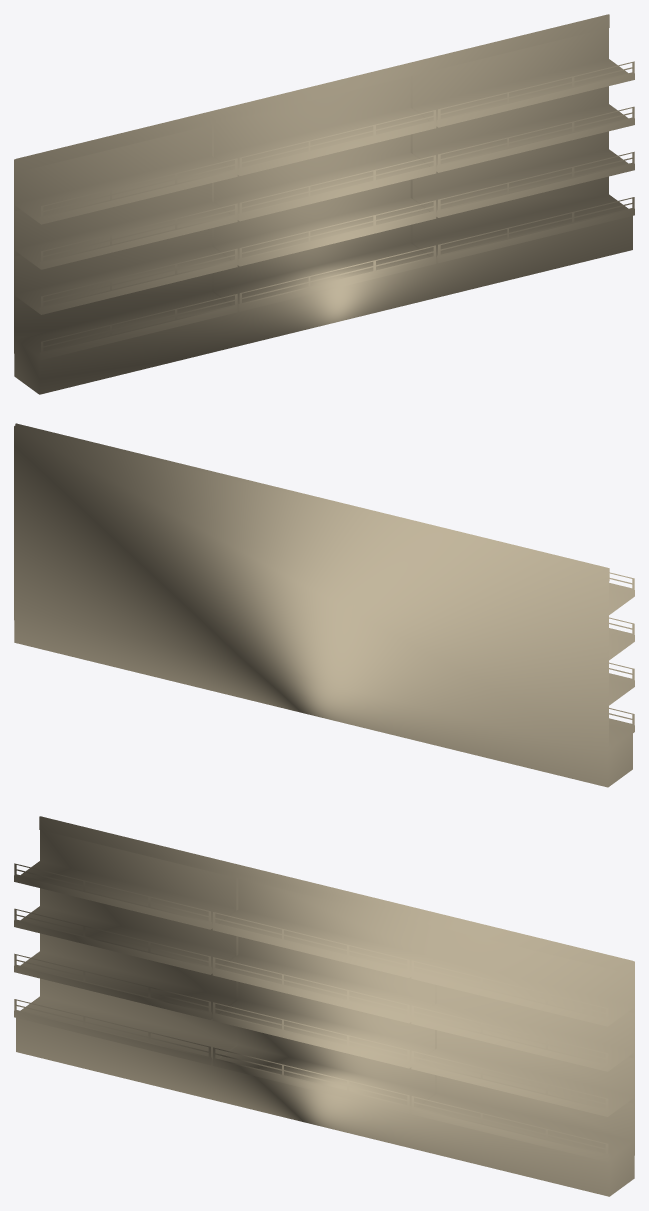
The model's file is shallow-display-fixture.glb.
The picture shows the model from 3 angles, top to bottom: view 1: azimuth 30°, elevation 25°; view 2: azimuth 150°, elevation 25°; view 3: azimuth 330°, elevation 25°; orthographic projection.
Parts seen in each view (by area): view 1: SupermarketAsset; view 2: SupermarketAsset; view 3: SupermarketAsset.
Part boxes in pixels (<box>): SupermarketAsset: <box>14,14,634,394</box>; SupermarketAsset: <box>14,423,634,787</box>; SupermarketAsset: <box>14,816,634,1196</box>.
Size of the model in its own units: 6.52 by 2.29 by 0.5204.
